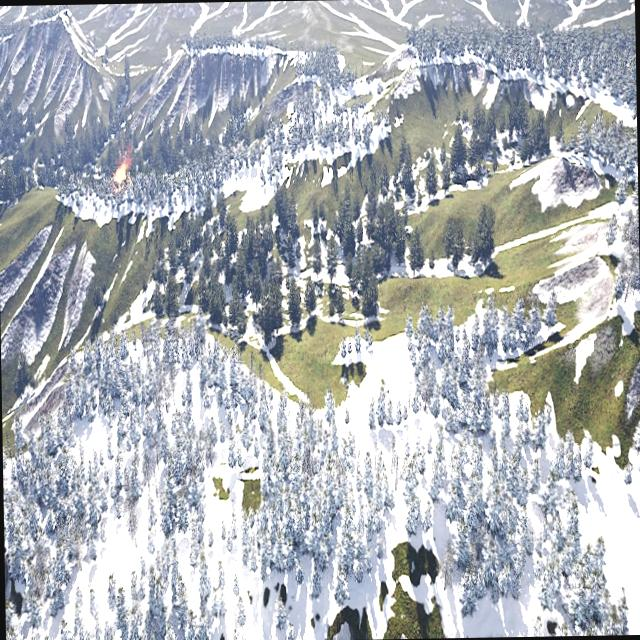fire: (114, 164, 127, 182)
smoke: (121, 142, 138, 164)
